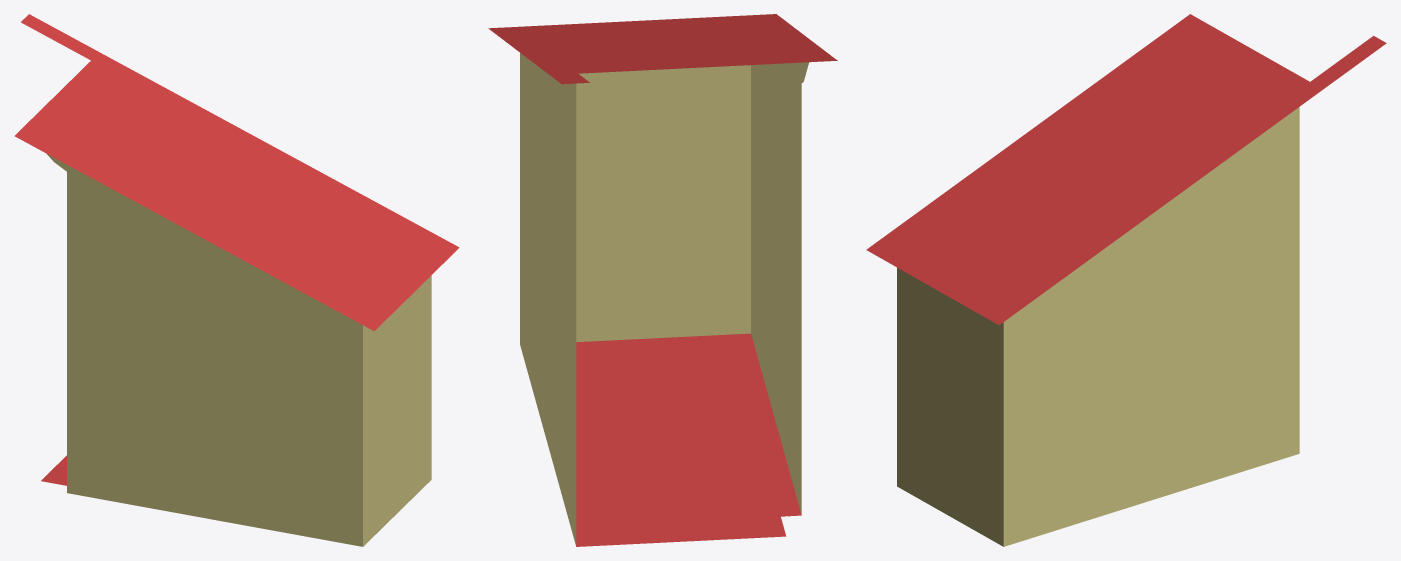
3 views of the same model, side by side, from view 1: azimuth 30°, elevation 25°; view 2: azimuth 150°, elevation 25°; view 3: azimuth 270°, elevation 25° (orthographic). The views are drawn at different scales.
Bounding box in the file's own units: 9.48 × 11.74 × 9.82.
